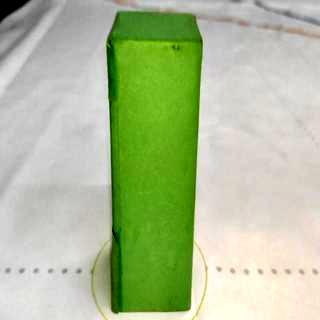greenbox: (105, 8, 204, 314)
